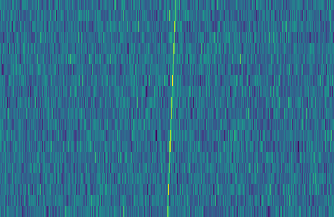signal: (162, 0, 179, 217)
